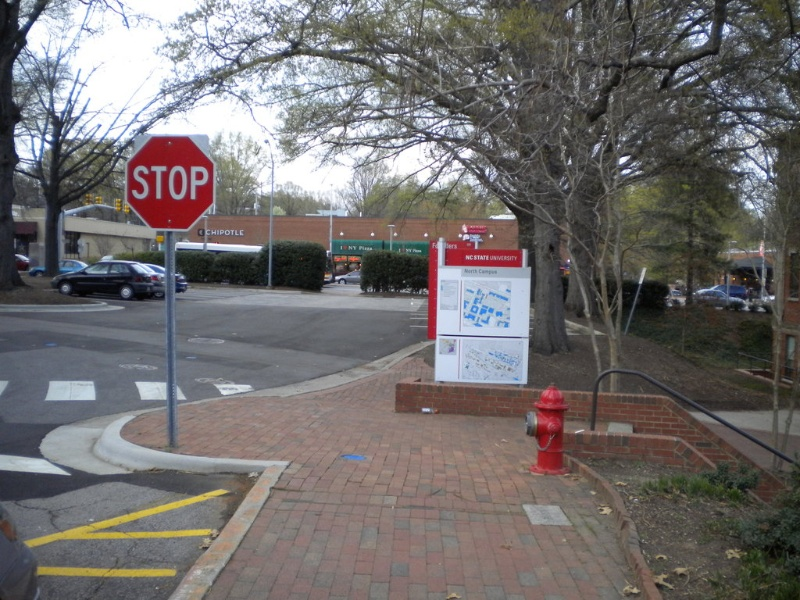stop: (122, 123, 223, 238)
